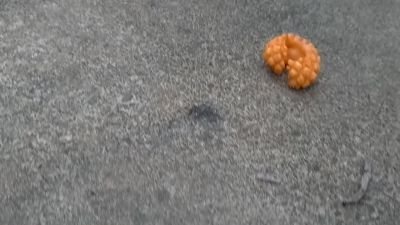eggs: (264, 32, 322, 90)
